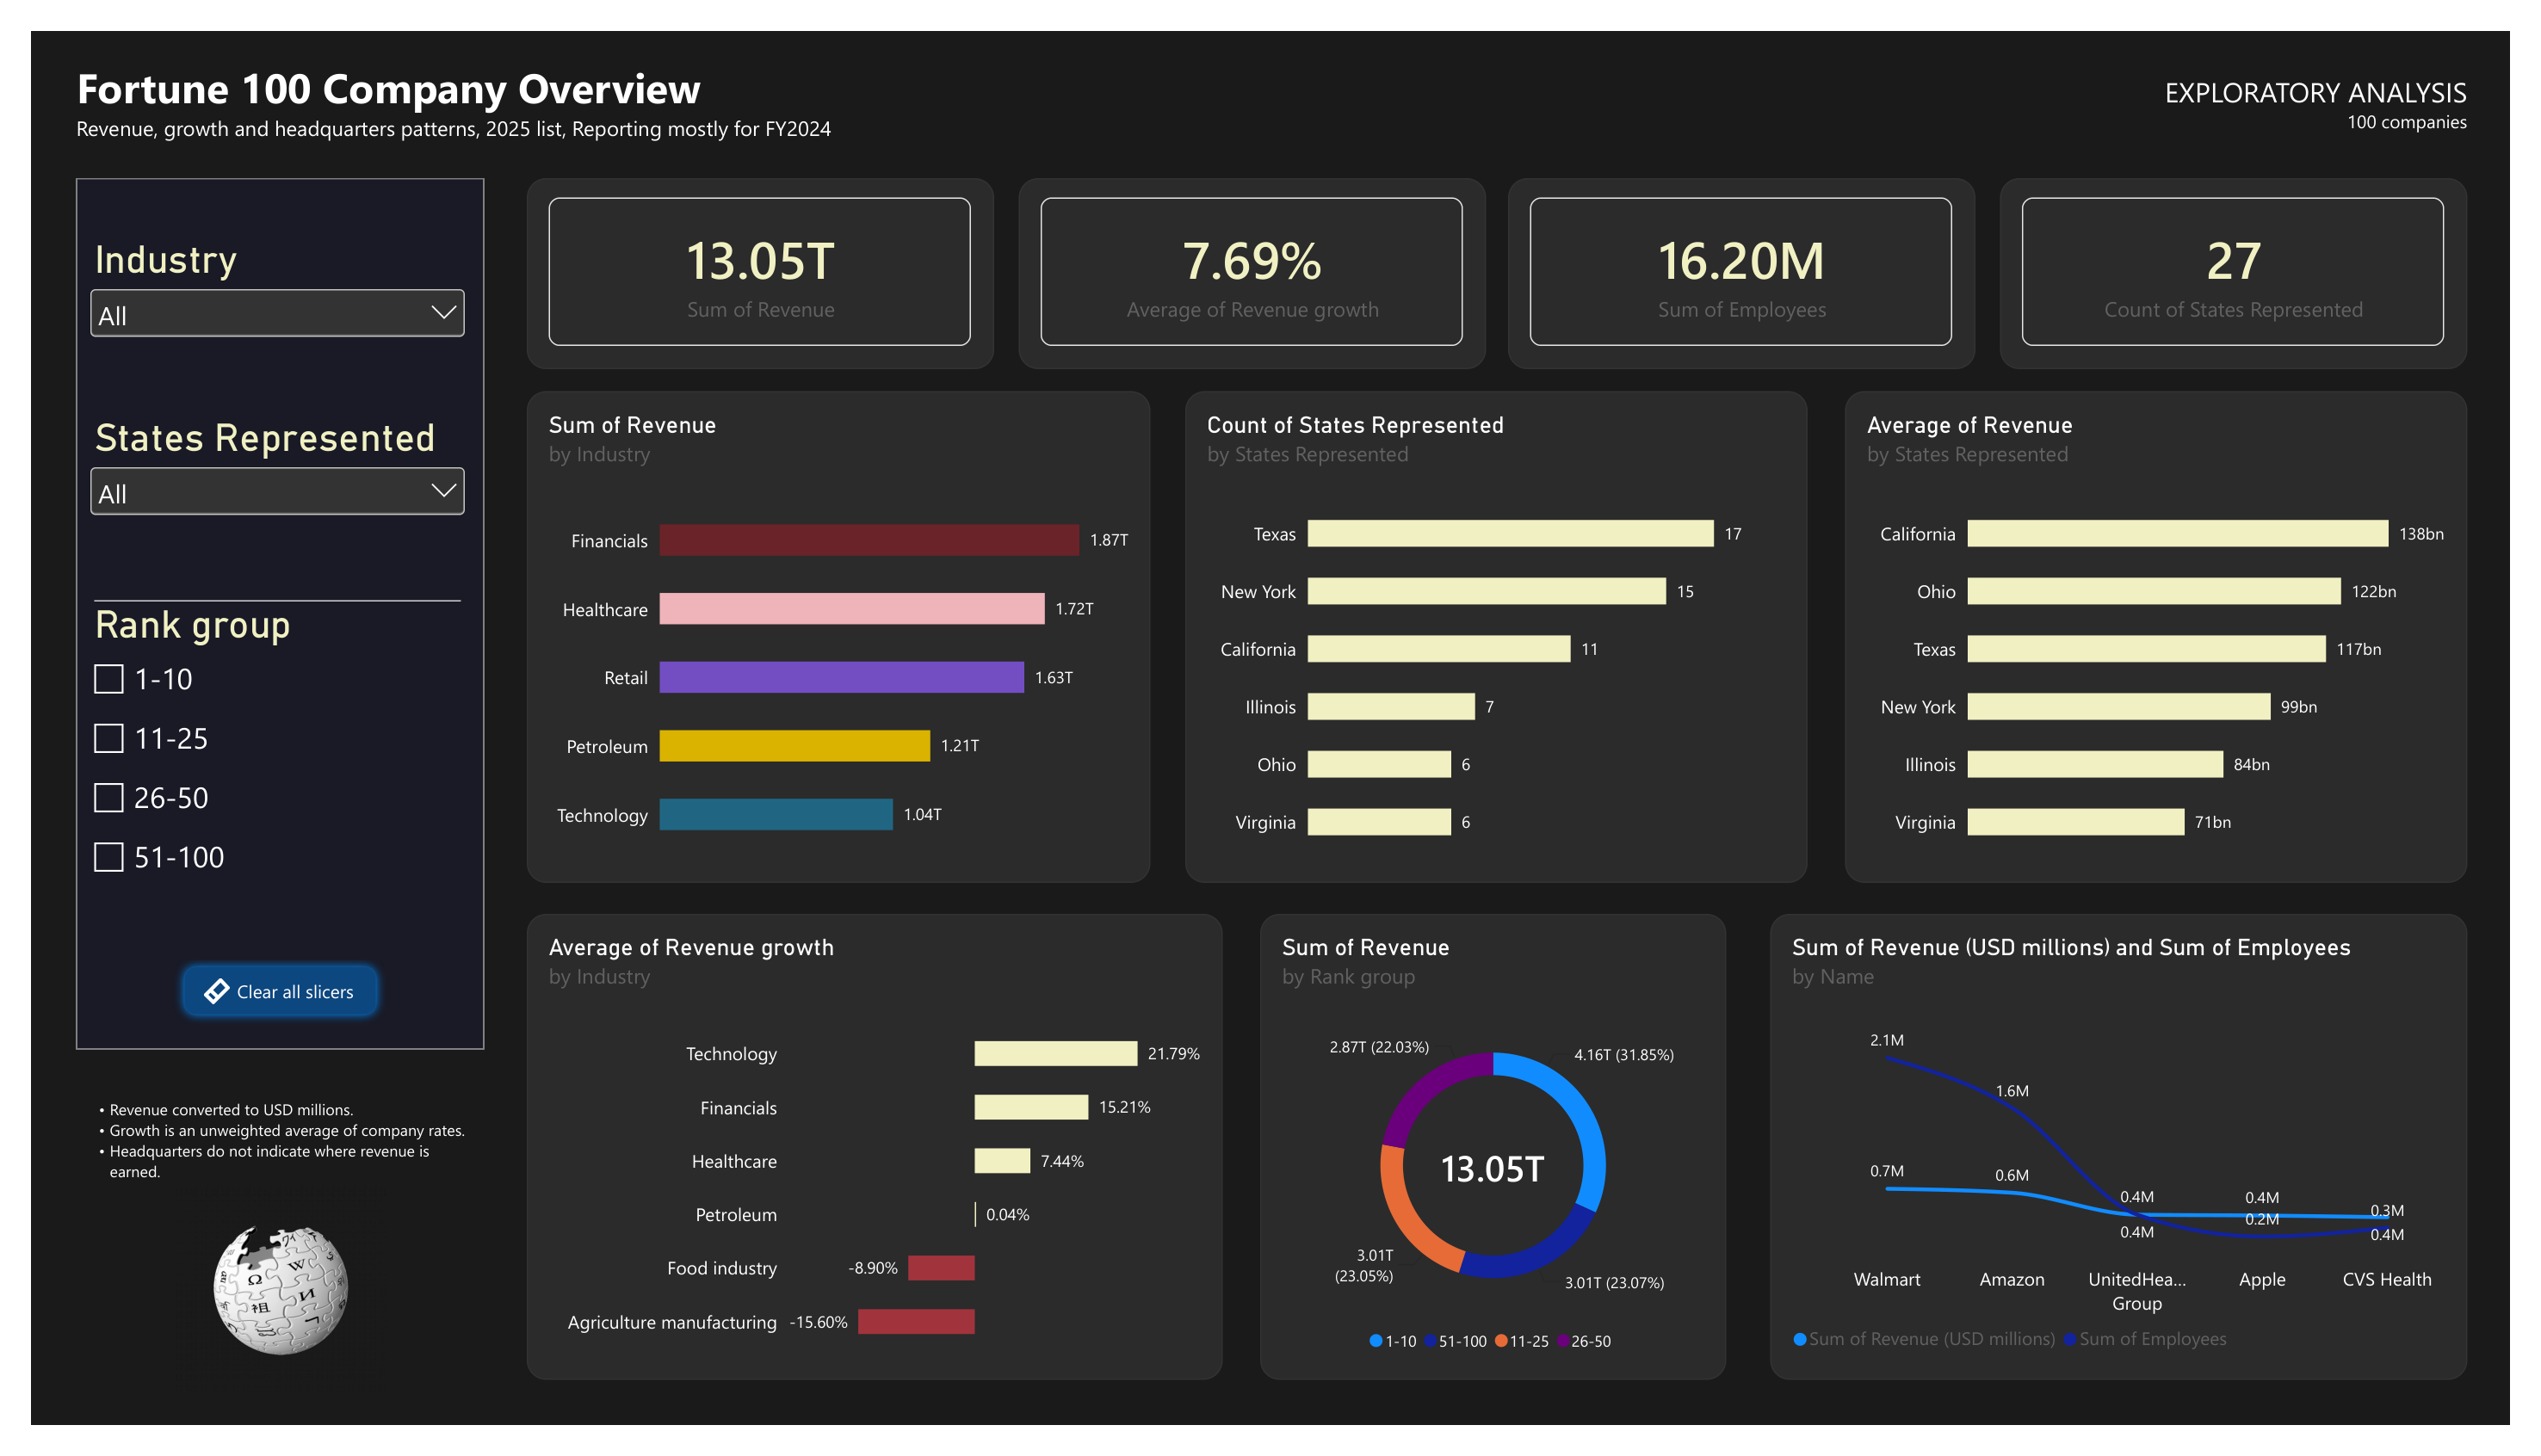

Layout of this report page (visuals, bound fields, positions):
{"tool":"powerbi","page":{"name":"Page 1","canvas":[1920,1080],"ordinal":0},"visuals":[{"type":"shape","box":[34.9,114.3,315.9,674.6],"z":0},{"type":"barChart","fields":{"Category":["Table5.Industry"],"Y":["Sum(Table5.Revenue)"]},"box":[384.1,279.4,482.5,381],"z":1000},{"type":"barChart","fields":{"Category":["Table5.Industry"],"Y":["Avg(Table5.Revenue growth)"]},"box":[383.9,683.9,538.7,361.3],"z":2000},{"type":"barChart","fields":{"Category":["Table5.Headquarters(state)"],"Y":["CountNonNull(Table5.Headquarters(state))"]},"box":[893.7,279.4,482.5,381],"z":3000},{"type":"barChart","fields":{"Category":["Table5.Headquarters(state)"],"Y":["Avg(Table5.Revenue)"]},"box":[1404.8,279.4,482.5,381],"z":4000},{"type":"lineChart","fields":{"Category":["Table5.Name"],"Y":["Sum(Table5.Revenue (USD millions))","Sum(Table5.Employees)"]},"box":[1346.8,683.9,540.3,361.3],"z":5000},{"type":"cardVisual","fields":{"Data":["Sum(Table5.Revenue)"]},"box":[384.1,114.3,361.9,147.6],"z":6000},{"type":"cardVisual","fields":{"Data":["Avg(Table5.Revenue growth)"]},"box":[765.1,114.3,361.9,147.6],"z":7000},{"type":"cardVisual","fields":{"Data":["Count(Table5.Headquarters(state))"]},"box":[1525.4,114.3,361.9,147.6],"z":8000},{"type":"cardVisual","fields":{"Data":["Sum(Table5.Employees)"]},"box":[1144.4,114.3,361.9,147.6],"z":9000},{"type":"donutChart","fields":{"Category":["Table5.Rank group"],"Y":["Sum(Table5.Revenue)"]},"box":[951.6,683.9,361.3,361.3],"z":10000},{"type":"slicer","fields":{"Values":["Table5.Industry"]},"box":[41.3,158.7,300,109.5],"z":11000},{"type":"slicer","fields":{"Values":["Table5.Headquarters(state)"]},"box":[41.3,296.8,300,109.5],"z":12000},{"type":"slicer","fields":{"Values":["Table5.Rank group"]},"box":[41.3,441.3,300,230.2],"z":13000},{"type":"actionButton","box":[111.1,717.5,163.5,52.4],"z":14000},{"type":"textbox","box":[42.9,807.9,300,104.8],"z":15000},{"type":"image","box":[42.9,893.7,300,163],"z":16000},{"type":"textbox","box":[35.5,21,708.1,72.6],"z":17000},{"type":"textbox","box":[1608.1,32.3,279,53.2],"z":18000}]}

Visuals, with their boxes in screenshot pixels (x1, y1, x2, y2), scaled from the page's 1920x1080 canvas onto the 2541x1456 screenshot:
shape: 46, 154, 464, 1064
barChart - Table5.Industry x Sum(Table5.Revenue): 509, 377, 1147, 891
barChart - Table5.Industry x Avg(Table5.Revenue growth): 508, 922, 1221, 1409
barChart - Table5.Headquarters(state) x CountNonNull(Table5.Headquarters(state)): 1183, 377, 1821, 891
barChart - Table5.Headquarters(state) x Avg(Table5.Revenue): 1859, 377, 2498, 891
lineChart - Table5.Name x Sum(Table5.Revenue (USD millions)): 1783, 922, 2497, 1409
cardVisual - Sum(Table5.Revenue): 509, 154, 987, 353
cardVisual - Avg(Table5.Revenue growth): 1012, 154, 1492, 353
cardVisual - Count(Table5.Headquarters(state)): 2019, 154, 2498, 353
cardVisual - Sum(Table5.Employees): 1515, 154, 1994, 353
donutChart - Table5.Rank group x Sum(Table5.Revenue): 1259, 922, 1738, 1409
slicer - Table5.Industry: 54, 214, 452, 361
slicer - Table5.Headquarters(state): 54, 400, 452, 548
slicer - Table5.Rank group: 54, 595, 452, 905
actionButton: 147, 967, 363, 1038
textbox: 57, 1089, 454, 1231
image: 57, 1205, 454, 1424
textbox: 47, 28, 984, 126
textbox: 2128, 44, 2497, 115
